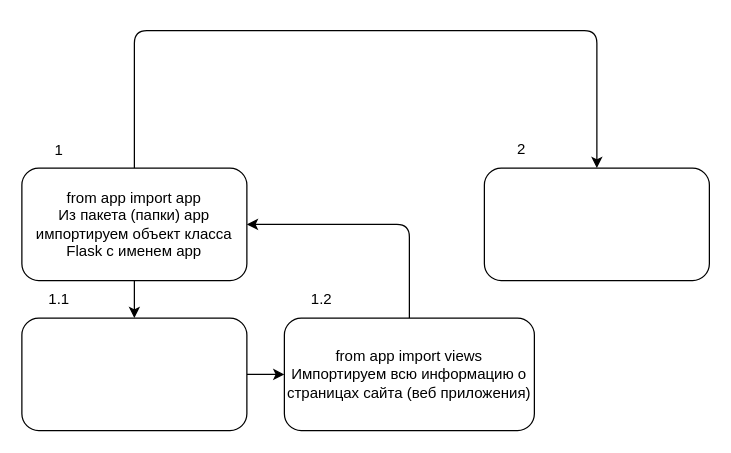
This 731x453 diagram has some shape labels left out. Here are the shapes that lost their labels. From the top down, the centre of each, then its label:
At point (596, 224): "app.run() открывается домашняя страница сайта".
At point (134, 374): "В файле __init__.py создается объект app".
